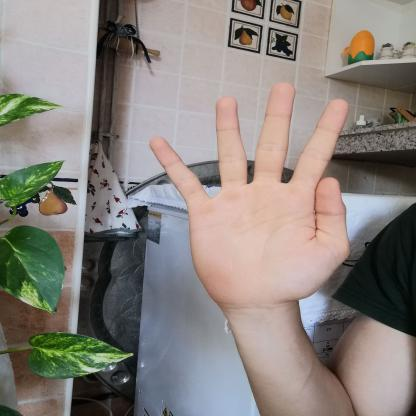SHEEN: (140, 75, 368, 314)
